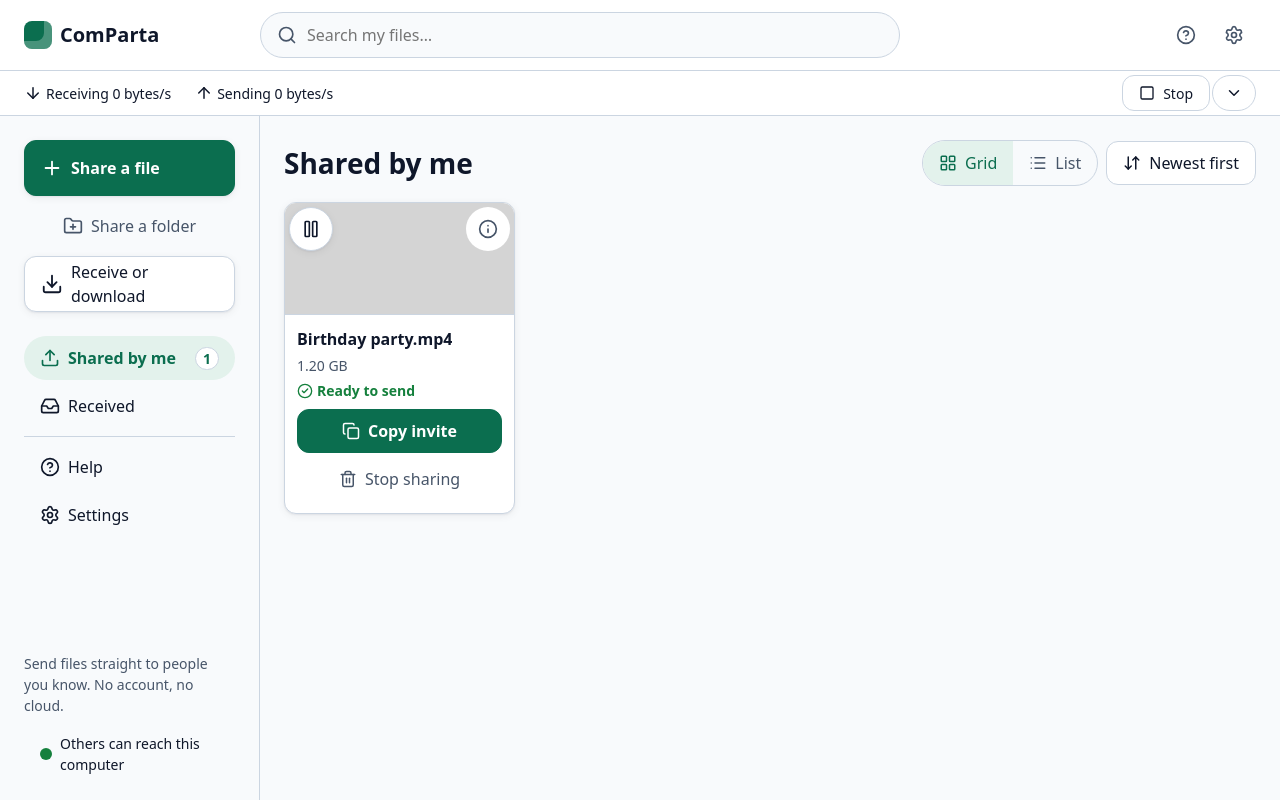
Scenario: the frame around the files › confirms stopping a share with a toast that can be closed
The image size is (1280, 800).
Click the button "Stop sharing".
click(400, 479)  # box x1=297 y1=457 x2=502 y2=501
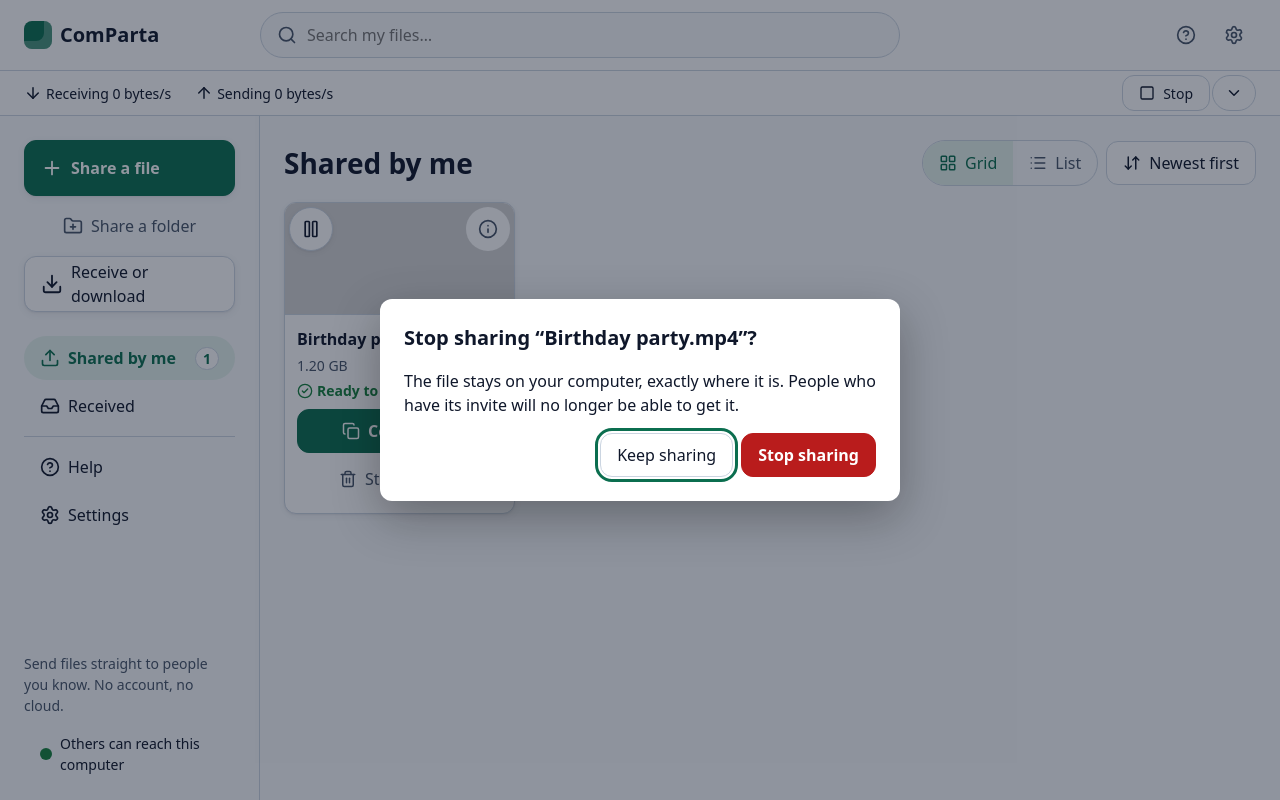
Click the button "Stop sharing".
click(809, 455)  # box x1=741 y1=433 x2=876 y2=477
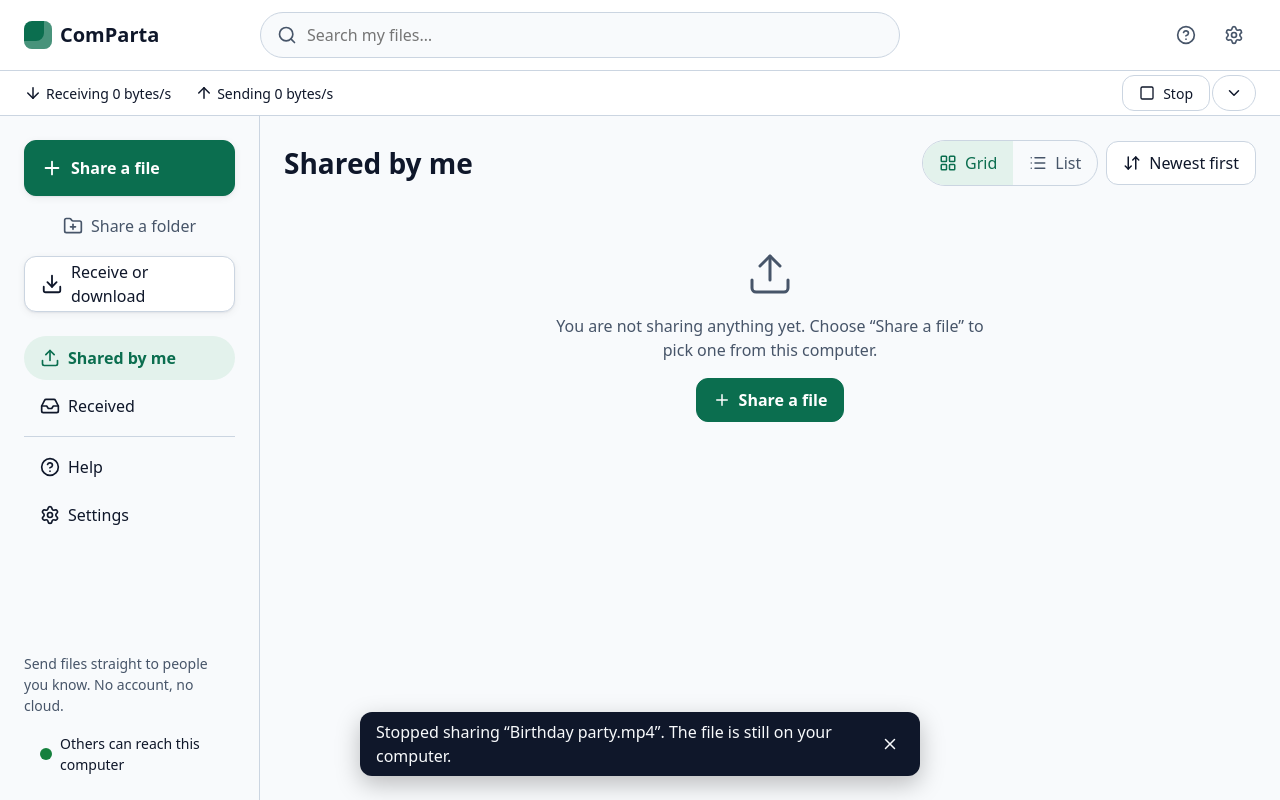
Click the button named "Close this message".
click(890, 744)  # box x1=868 y1=722 x2=912 y2=766
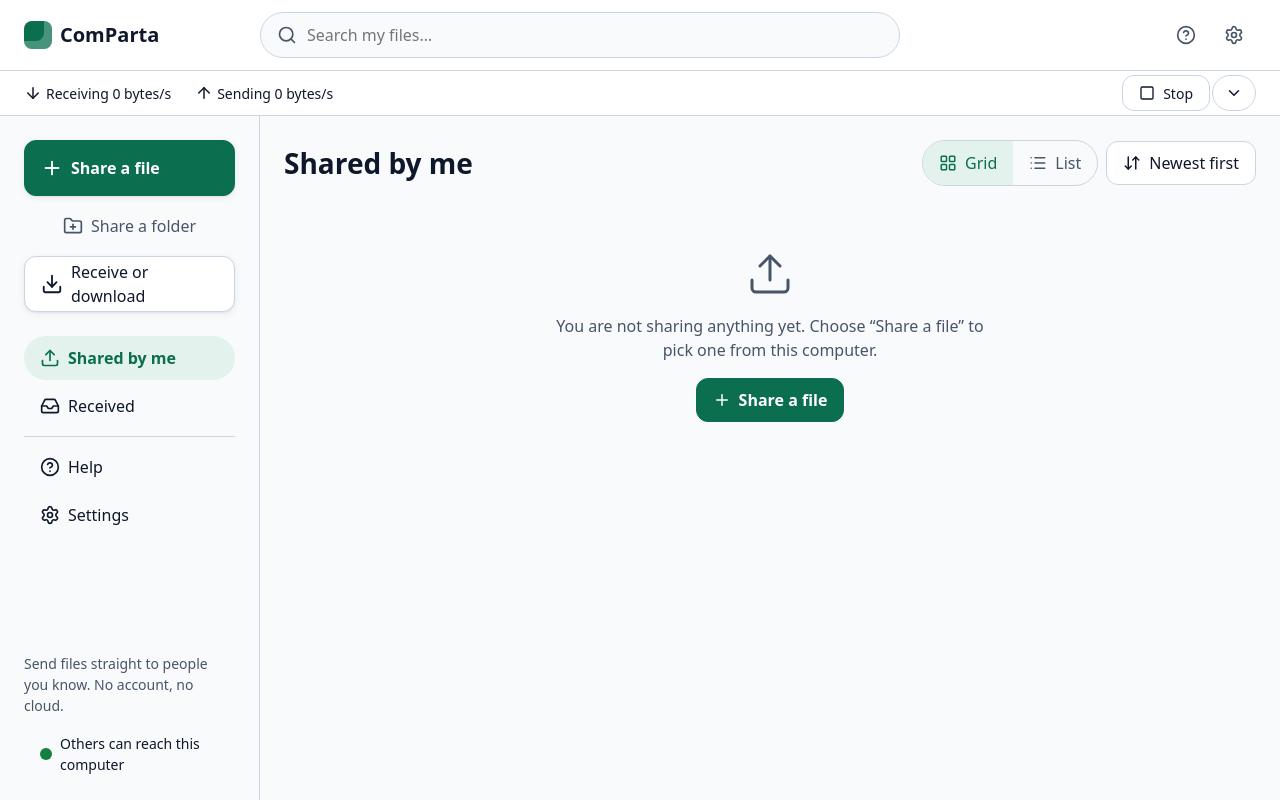
Check: the message "Stopped sharing “Birthday party.mp4”. The file is still on your computer." is gone
